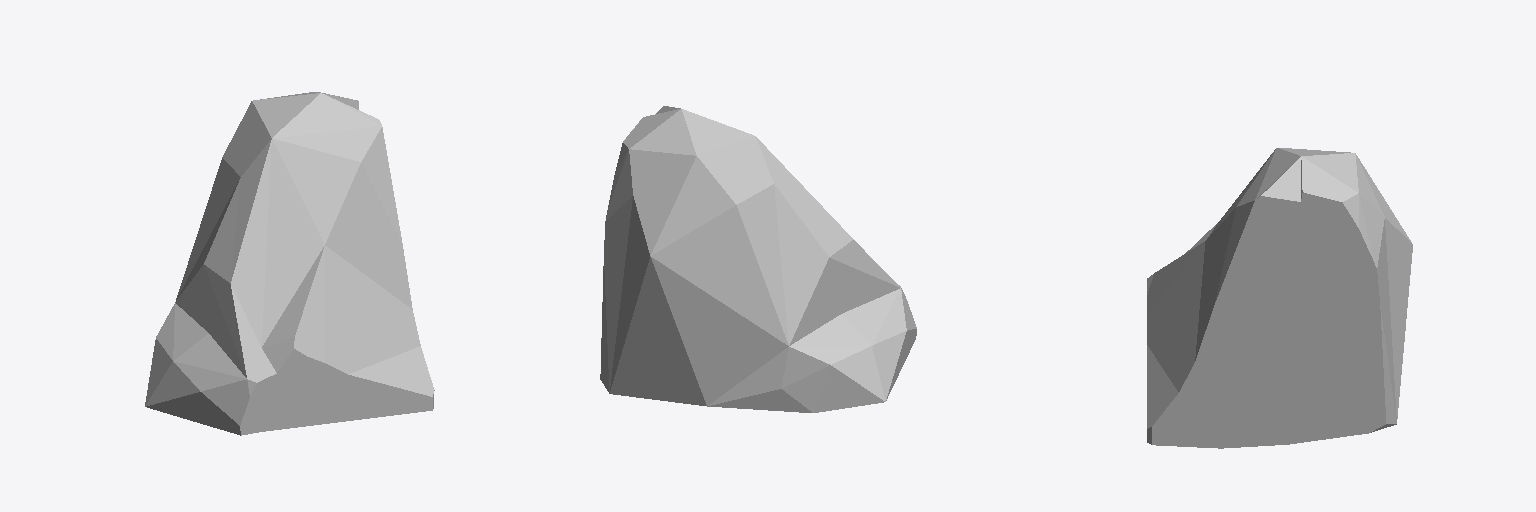
The model's file is arbol4.obj.
3 views of the same model, side by side, from view 1: azimuth 30°, elevation 25°; view 2: azimuth 150°, elevation 25°; view 3: azimuth 270°, elevation 25° (orthographic).
Visible parts, largest first — view 1: Icosphere.027; view 2: Icosphere.027; view 3: Icosphere.027.
Part boxes in pixels (left/top/right/bottom): Icosphere.027: left=145, top=92, right=434, bottom=435; Icosphere.027: left=600, top=106, right=916, bottom=412; Icosphere.027: left=1147, top=148, right=1412, bottom=448.
Size of the model in its own units: 5.54 by 6.32 by 5.58.